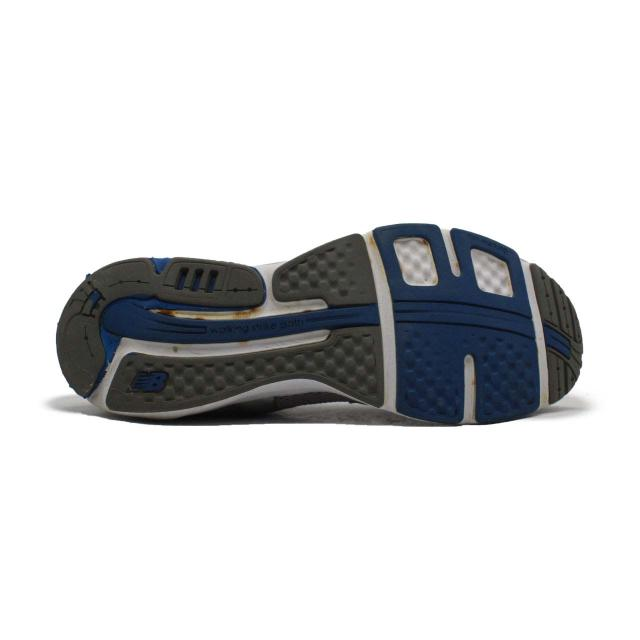outersole: (56, 224, 584, 424)
